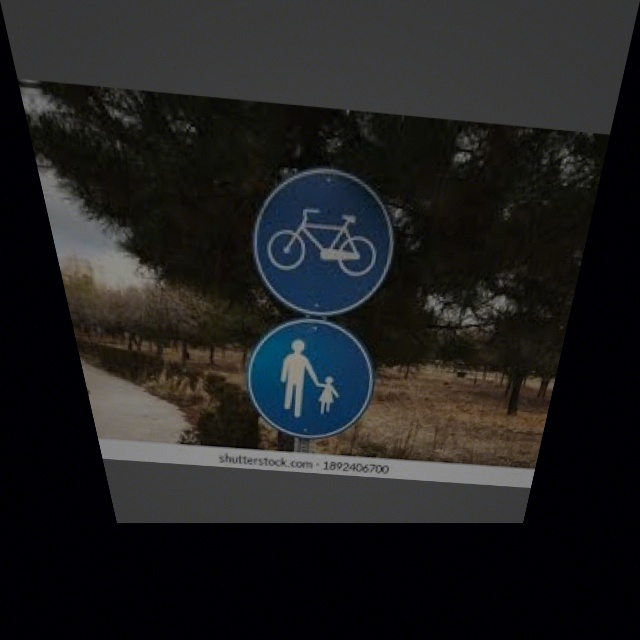Compulsory_Cycle_Track: (241, 162, 405, 317)
